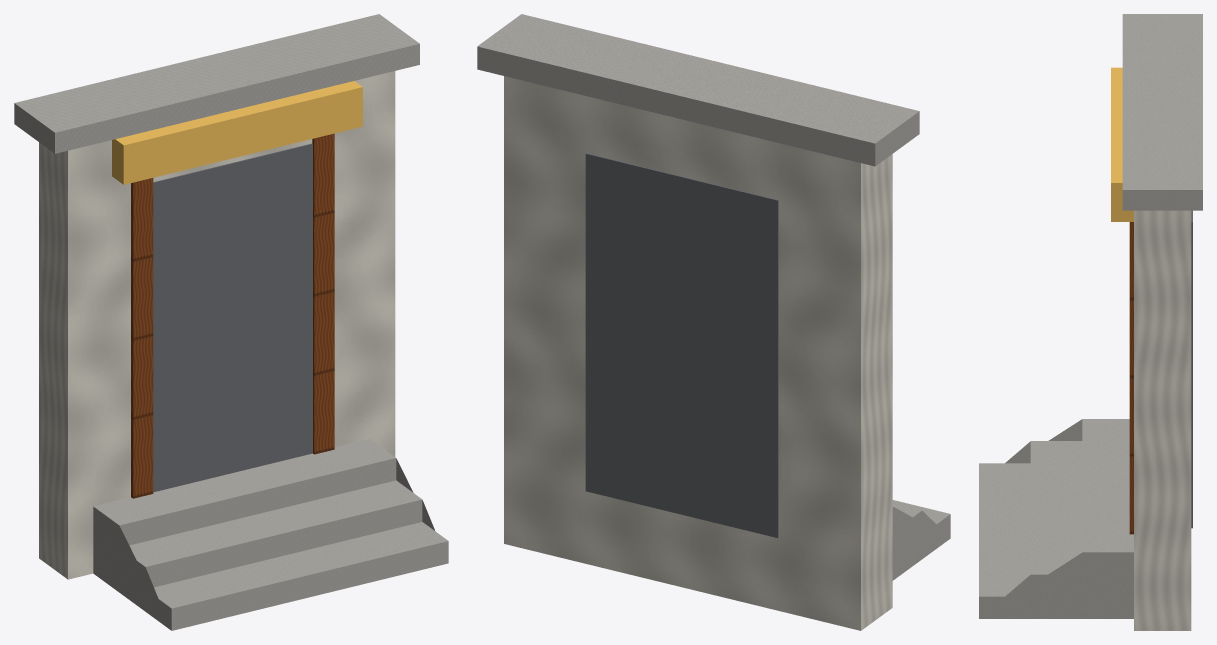
Rendered from indian-bazaar-street-and-temple-stepped-doorway-46de7fe8__36530.glb.
3 renders of one model, left to right at view 1: azimuth 30°, elevation 25°; view 2: azimuth 150°, elevation 25°; view 3: azimuth 270°, elevation 25°, orthographic. The views are drawn at different scales.
Visible parts, largest first — view 1: stepped-doorway-stone, stepped-doorway-plaster, stepped-doorway-charcoal, stepped-doorway-timber, stepped-doorway-saffron; view 2: stepped-doorway-plaster, stepped-doorway-charcoal, stepped-doorway-stone; view 3: stepped-doorway-stone, stepped-doorway-plaster, stepped-doorway-saffron, stepped-doorway-timber, stepped-doorway-charcoal.
Part boxes in pixels (bbox=[...]): stepped-doorway-stone: bbox=[14, 14, 448, 630]; stepped-doorway-plaster: bbox=[39, 71, 395, 579]; stepped-doorway-charcoal: bbox=[153, 143, 312, 492]; stepped-doorway-timber: bbox=[131, 133, 334, 498]; stepped-doorway-saffron: bbox=[112, 81, 362, 184]; stepped-doorway-plaster: bbox=[504, 76, 892, 630]; stepped-doorway-charcoal: bbox=[585, 153, 778, 537]; stepped-doorway-stone: bbox=[477, 14, 950, 580]; stepped-doorway-stone: bbox=[979, 14, 1202, 618]; stepped-doorway-plaster: bbox=[1134, 210, 1191, 630]; stepped-doorway-saffron: bbox=[1111, 67, 1133, 221]; stepped-doorway-timber: bbox=[1129, 222, 1133, 534]; stepped-doorway-charcoal: bbox=[1191, 210, 1192, 528].
Size of the model in its own units: 2.9 by 3.46 by 1.56.
Materials: 7 (3 with a texture image).
